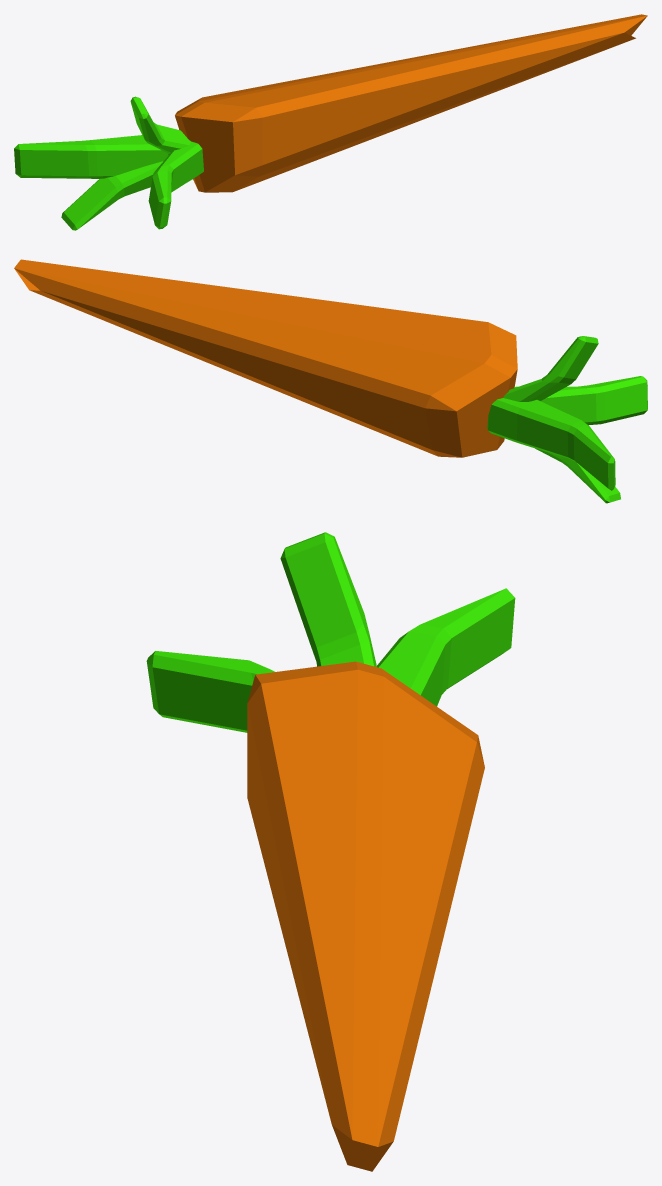
The model's file is Carrot.fbx.
The picture shows the model from 3 angles, top to bottom: view 1: azimuth 30°, elevation 25°; view 2: azimuth 150°, elevation 25°; view 3: azimuth 270°, elevation 25°; orthographic projection. The views are drawn at different scales.
Parts seen in each view (by area): view 1: Cube.002; view 2: Cube.002; view 3: Cube.002.
Boxes of the visible parts, left/top/right/bottom form: Cube.002: left=14, top=14, right=647, bottom=230; Cube.002: left=14, top=259, right=647, bottom=503; Cube.002: left=146, top=532, right=515, bottom=1171.
Size of the model in its own units: 1041 by 221 by 280.
